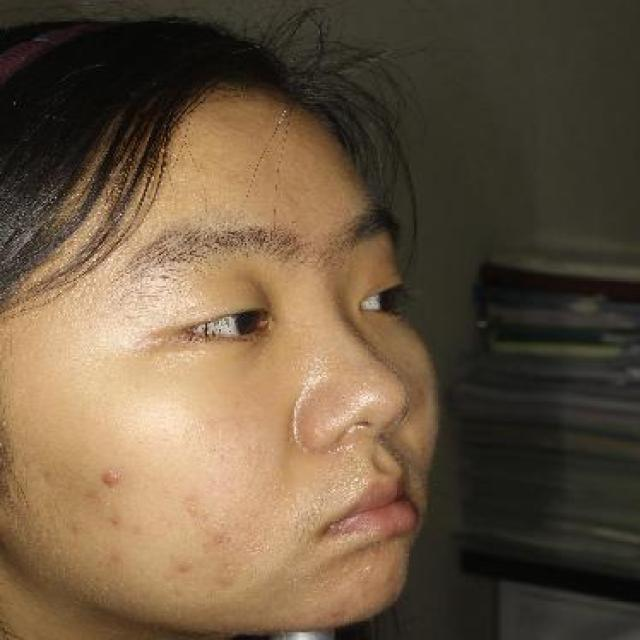dark spot: (99, 468, 127, 492)
